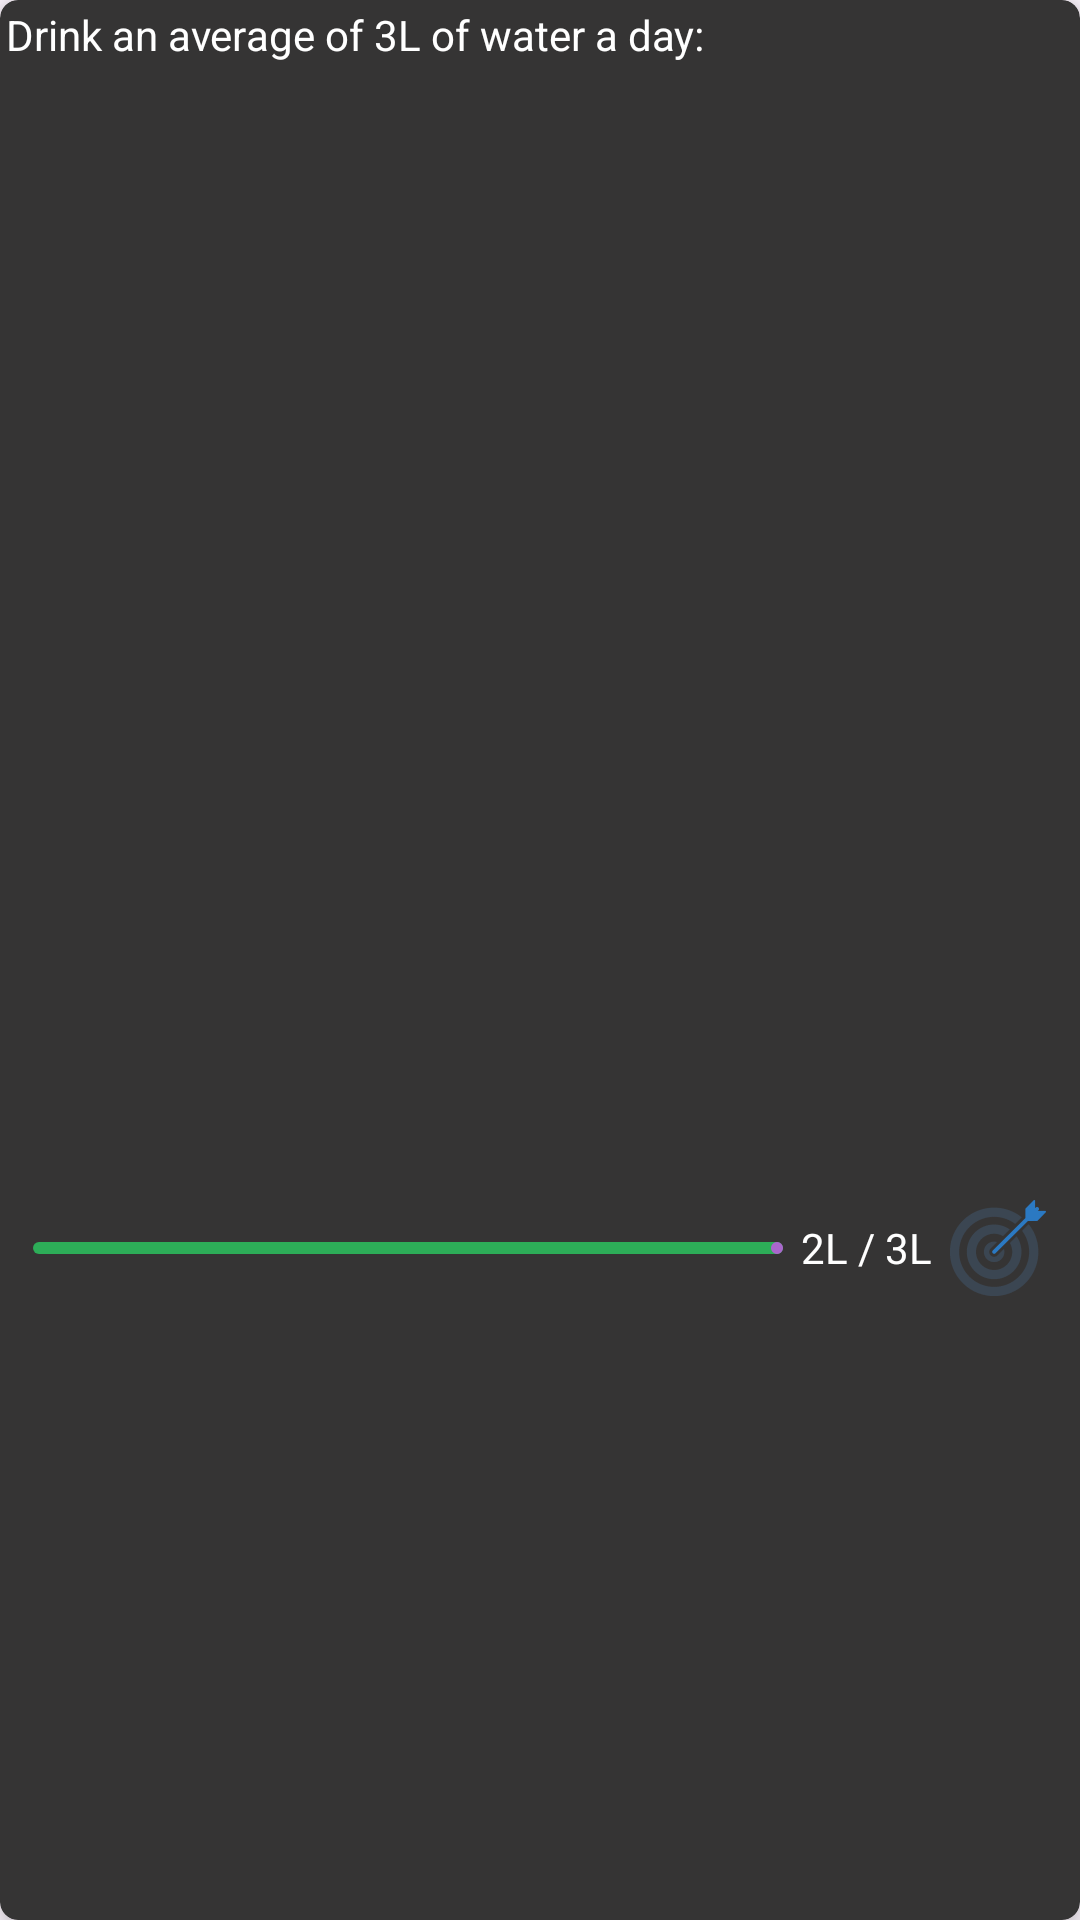

Icon click points for this 1080*1920 phone screenshot, format (x,y):
Goal icon: (998,1248)
